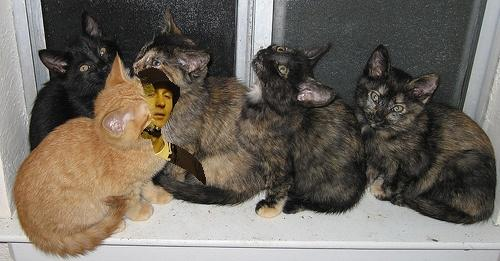tampered: (139, 68, 206, 185)
